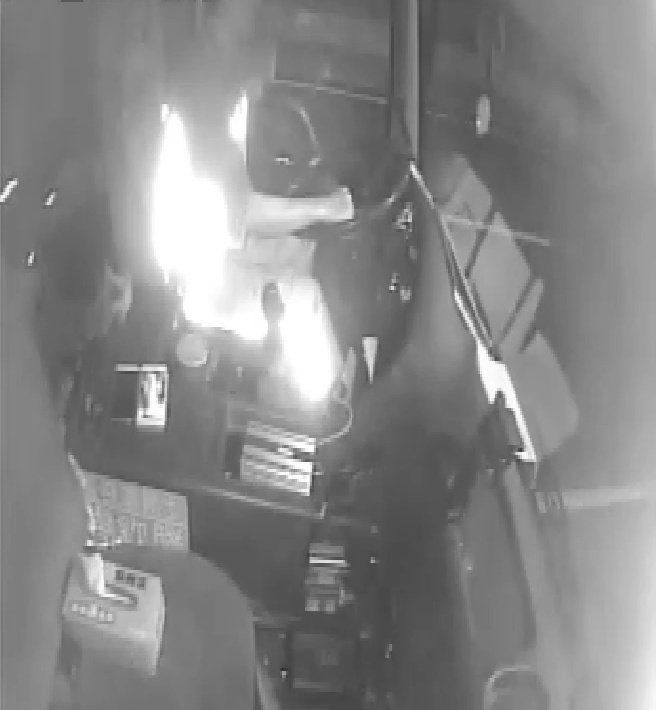cellphone: (134, 362, 172, 433)
